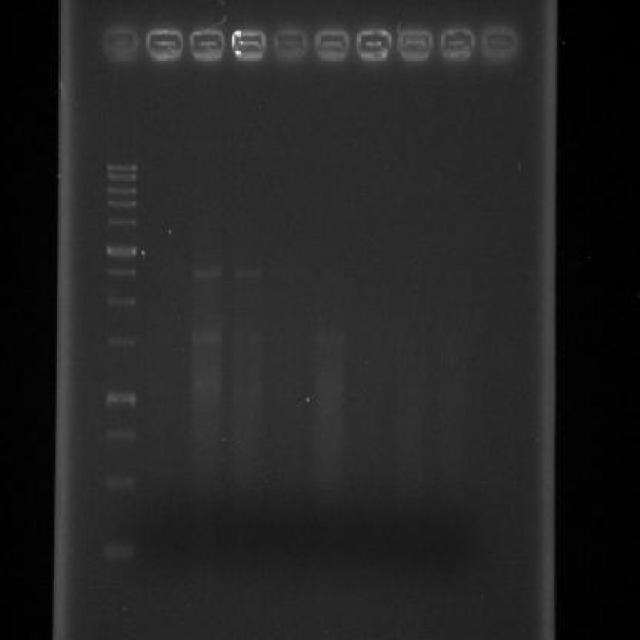B: (182, 324, 227, 350), (182, 261, 225, 284), (309, 326, 349, 349), (231, 261, 266, 284), (228, 328, 262, 346)
L: (93, 7, 530, 87)
M: (98, 150, 144, 575)
P: (105, 389, 138, 411), (104, 542, 136, 564), (104, 470, 136, 492), (106, 243, 139, 260), (104, 264, 138, 280), (106, 426, 137, 443), (106, 333, 137, 350), (105, 294, 138, 308), (105, 215, 138, 228), (105, 196, 138, 209), (106, 160, 140, 172), (105, 184, 138, 196), (104, 172, 138, 182)
Pc: (100, 19, 142, 70), (144, 23, 184, 65), (479, 20, 518, 63), (313, 24, 350, 66), (271, 24, 311, 62), (438, 24, 476, 64), (230, 26, 268, 65), (396, 26, 436, 63), (188, 26, 226, 62), (356, 25, 392, 63)
